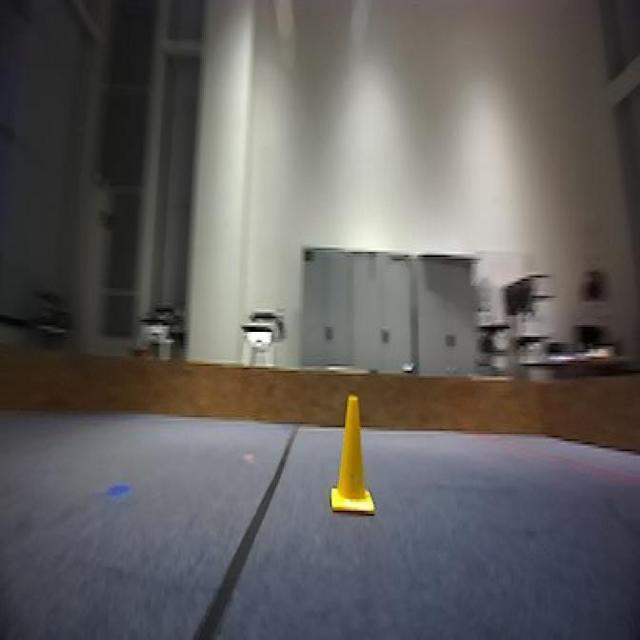frc_cone: (327, 396, 378, 516)
